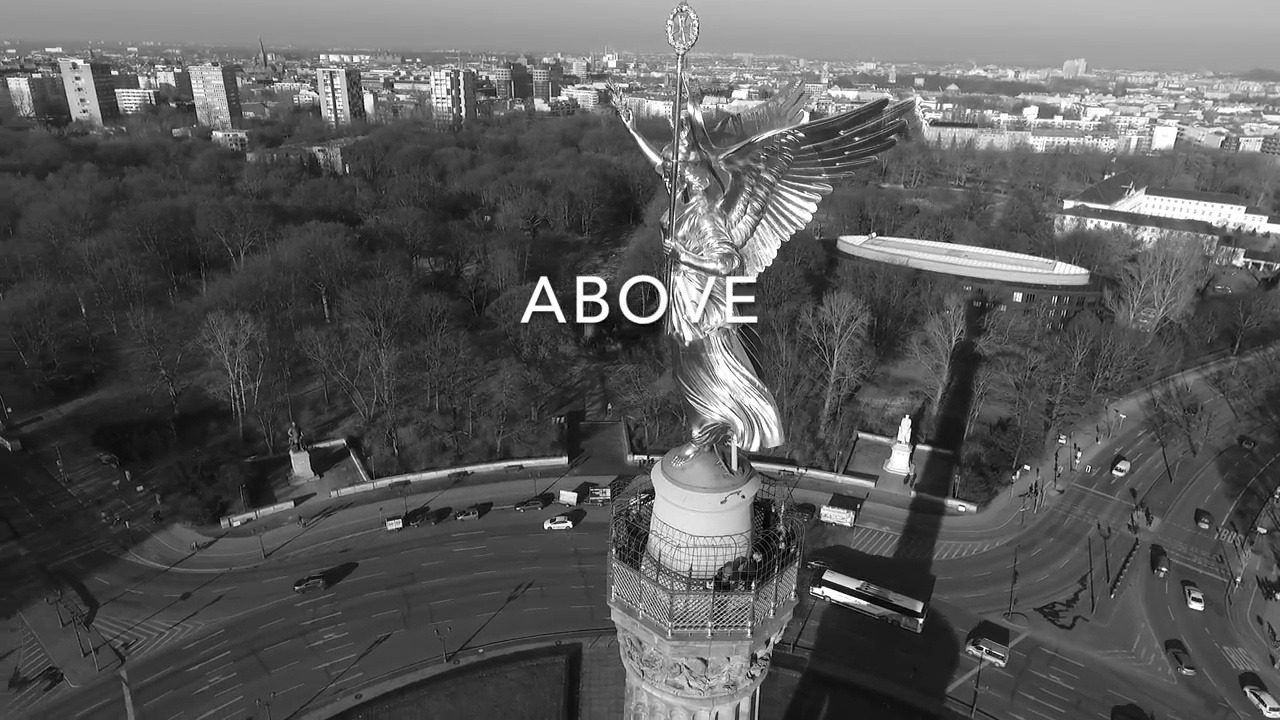bus: (803, 559, 929, 634)
car: (538, 513, 582, 536)
